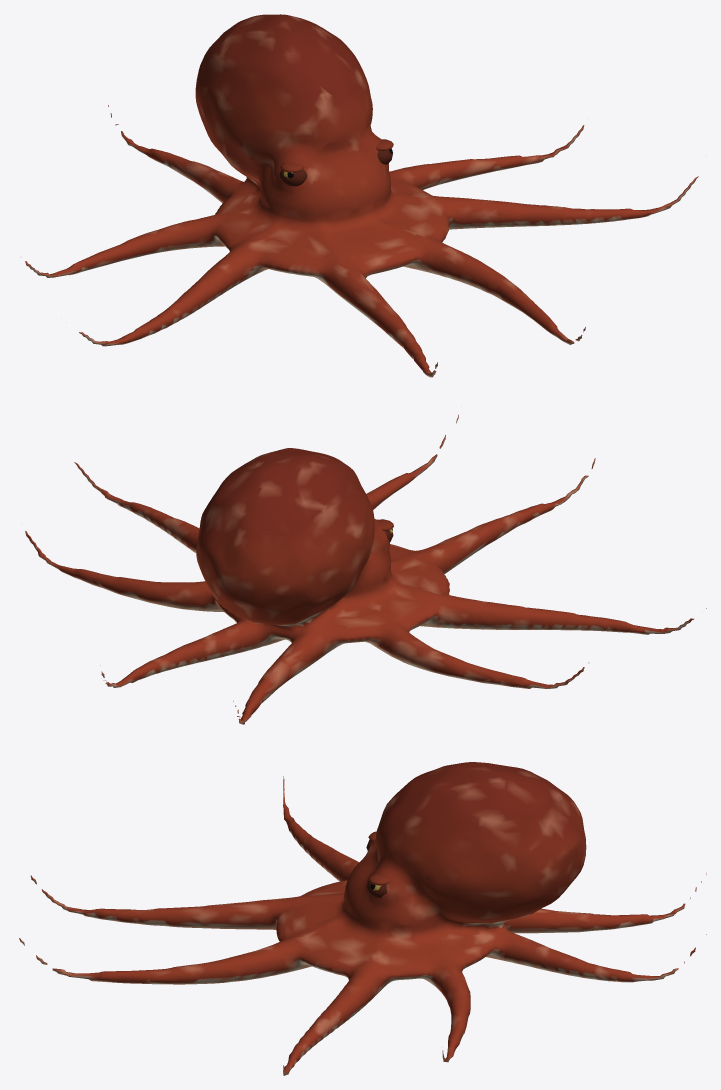
File: EnteroctopusDofleini.fbx
3 renders of one model, top to bottom at view 1: azimuth 30°, elevation 25°; view 2: azimuth 150°, elevation 25°; view 3: azimuth 270°, elevation 25°, orthographic. The views are drawn at different scales.
Parts seen in each view (by area): view 1: EnteroctopusDofleini; view 2: EnteroctopusDofleini; view 3: EnteroctopusDofleini.
Part boxes in pixels (<box>): EnteroctopusDofleini: <box>25,14,698,377</box>; EnteroctopusDofleini: <box>25,414,706,724</box>; EnteroctopusDofleini: <box>19,762,706,1075</box>.
Size of the model in its own units: 1.85 by 0.5056 by 1.76.
